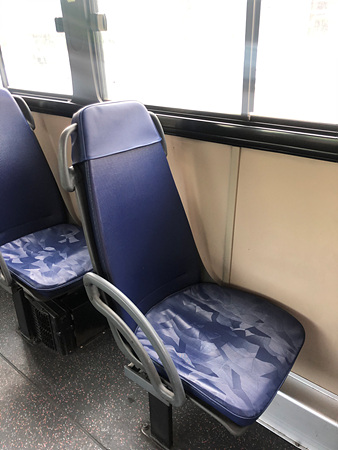seat: (64, 100, 307, 428)
